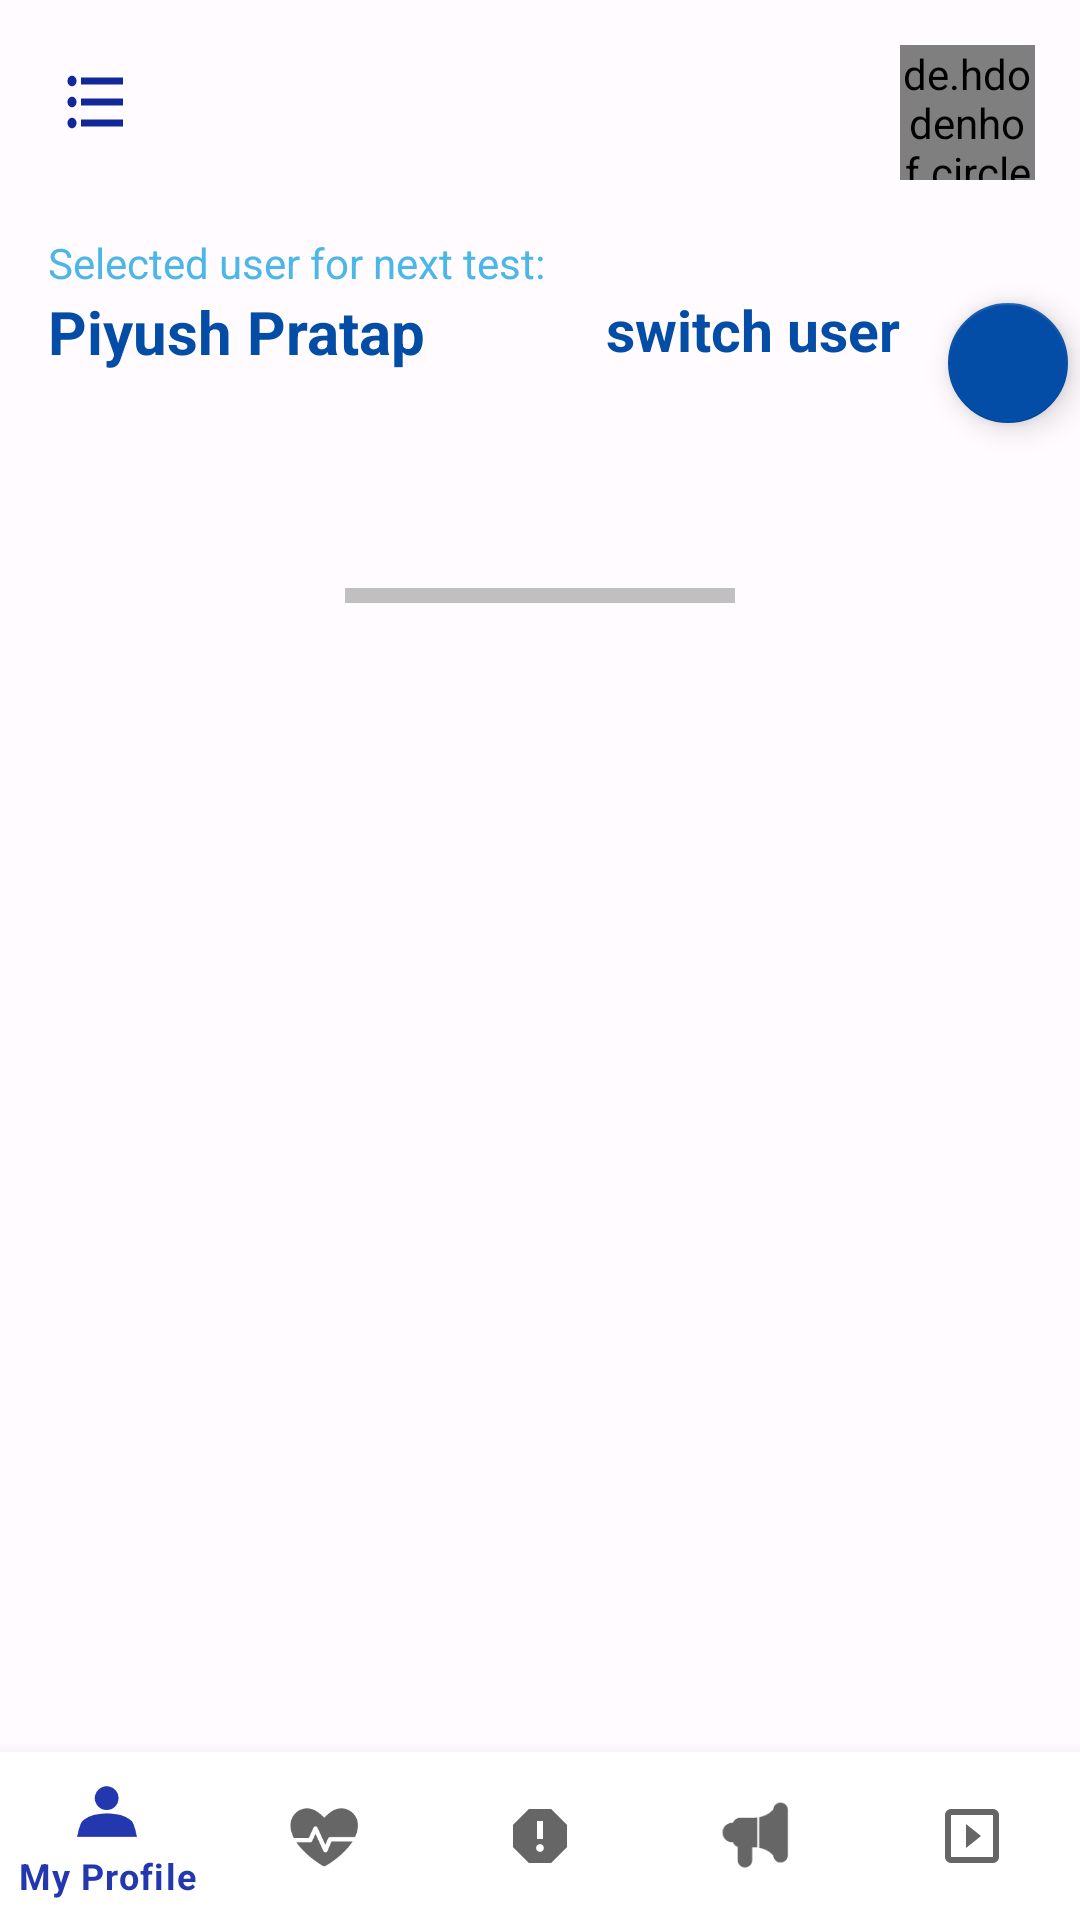

Icons on this 1080px x 1920px Android screen, each with its box as (x1, y1, x2, y2):
format list bulleted: (67, 75, 123, 129)
